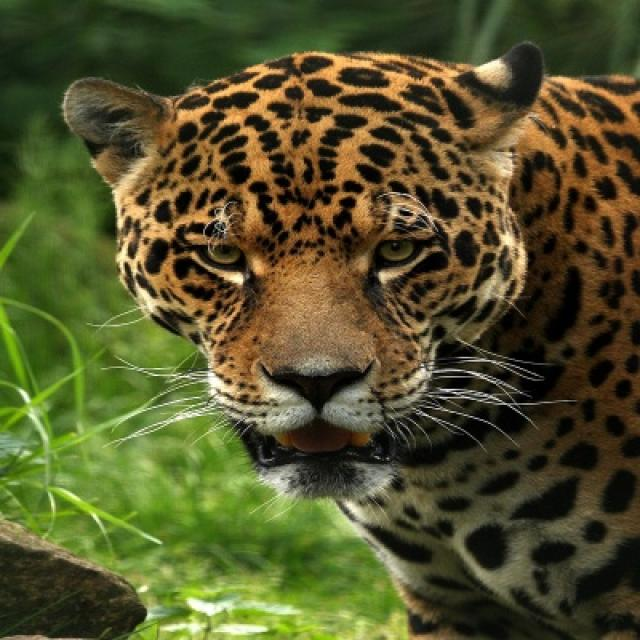Jaguar: (59, 43, 638, 638)
